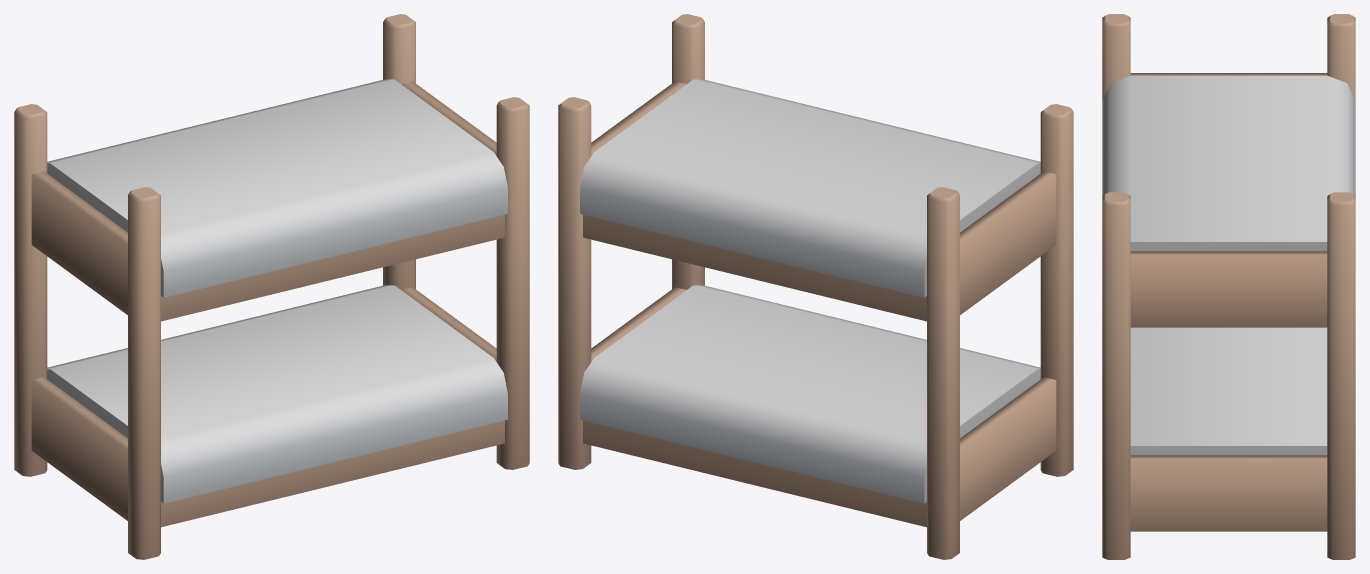
File: bed-bunk.glb
3 views of the same model, side by side, from view 1: azimuth 30°, elevation 25°; view 2: azimuth 150°, elevation 25°; view 3: azimuth 270°, elevation 25° (orthographic).
Parts seen in each view (by area): view 1: bed-bunk; view 2: bed-bunk; view 3: bed-bunk.
Part boxes in pixels (box(x1,y1,x2,y2)): bed-bunk: box(14, 14, 529, 559); bed-bunk: box(558, 14, 1073, 559); bed-bunk: box(1102, 14, 1355, 559).
Bounding box in the file's own units: 1.6 × 1.4 × 0.9.
